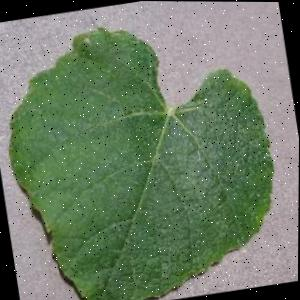Folha: (0, 2, 294, 300)
